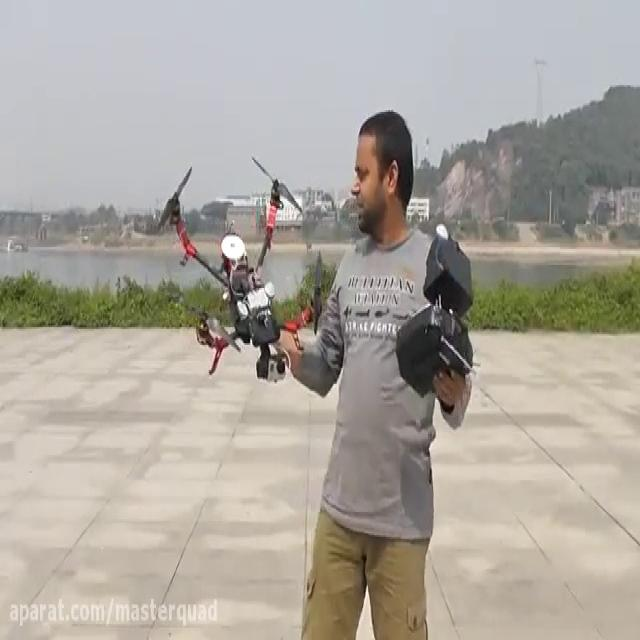drone: (153, 151, 326, 384)
